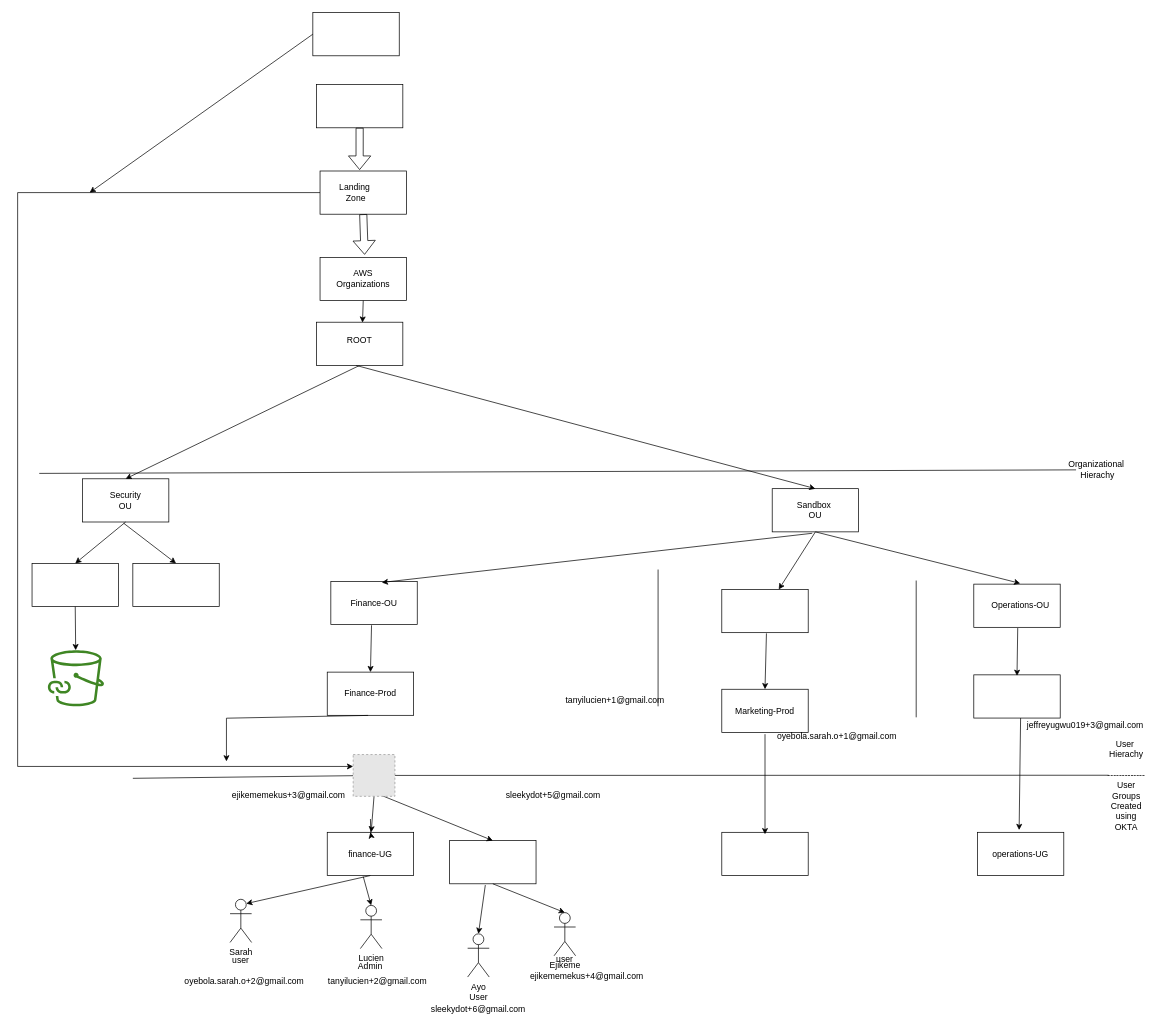
The diagram is 1161 pixels wide and 1033 high, and some of its shapes have lost their labels. Grey dashed boxes stand in for pictures. Here are the shapes that lost their labels. From the top down, the box of each, then its label:
(312, 12, 399, 56): Managementt Account
(316, 84, 403, 128): Control Tower
(31, 563, 118, 607): Log_Archive
(132, 563, 219, 607): Audit
(721, 589, 808, 633): Marketing -OU
(973, 674, 1060, 718): Operations-Prod
(449, 840, 536, 884): audit-UG
(721, 832, 808, 876): marketing-UG
